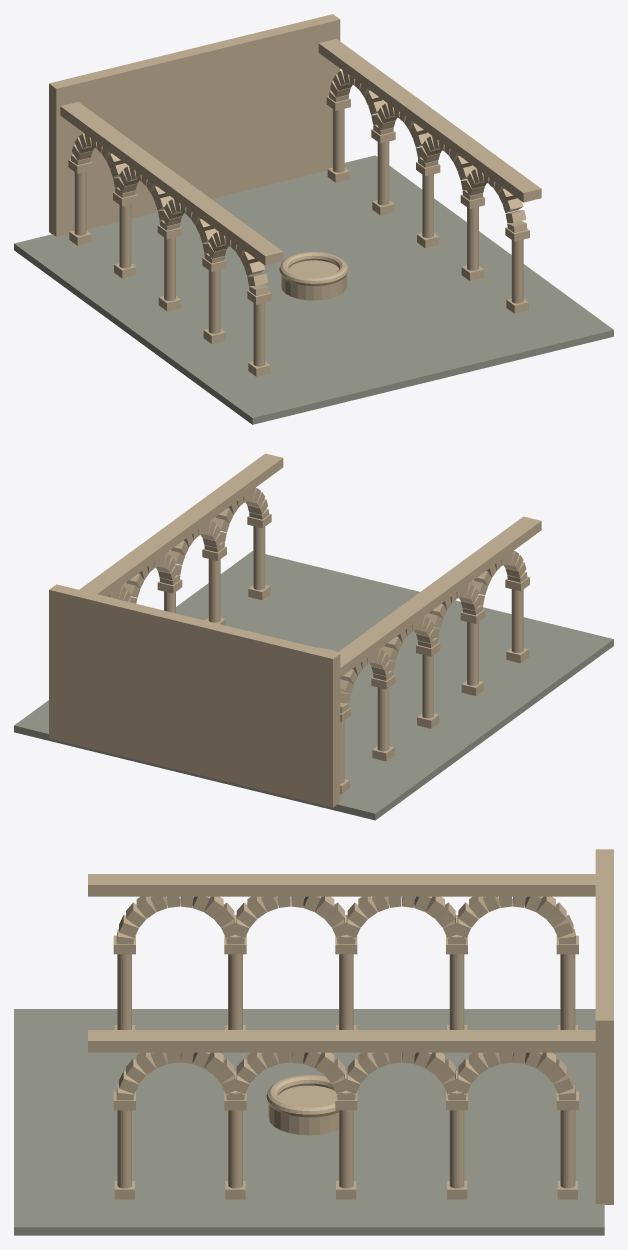
The picture shows the model from 3 angles, top to bottom: view 1: azimuth 30°, elevation 25°; view 2: azimuth 150°, elevation 25°; view 3: azimuth 270°, elevation 25°; orthographic projection. The views are drawn at different scales.
Parts seen in each view (by area): view 1: Courtyard floor, Rear wall, Arcade cornice.001, Arcade cornice, Wellhead base, Wellhead rim, Arcade column, Arcade column.003, Arcade column.004, Arcade column.005, Arcade column.009, Arcade column.001 (+4 smaller); view 2: Rear wall, Courtyard floor, Arcade cornice, Arcade cornice.001, Arcade column.006, Arcade column.003, Arcade column, Arcade column.005, Arcade column.002, Arcade column.001; view 3: Courtyard floor, Arcade cornice, Arcade cornice.001, Rear wall, Wellhead base, Wellhead rim, Arcade column.008, Arcade column.009, Arcade column.003, Arcade column.004, Arcade column.006, Arcade column.005 (+4 smaller).
Boxes of the visible parts, x1,y1,x2,y2 form: Courtyard floor: (14,155,613,424); Rear wall: (49,14,340,236); Arcade cornice.001: (318,39,541,202); Arcade cornice: (60,101,283,265); Wellhead base: (281,260,346,300); Wellhead rim: (279,252,348,286); Arcade column: (253,302,265,366); Arcade column.003: (119,204,131,268); Arcade column.004: (74,171,86,235); Arcade column.005: (511,239,523,303); Arcade column.009: (332,108,344,172); Arcade column.001: (208,270,220,333); Rear wall: (49,584,340,807); Courtyard floor: (14,551,613,820); Arcade cornice: (337,516,541,677); Arcade cornice.001: (79,453,283,596); Arcade column.006: (208,559,220,622); Arcade column.003: (377,687,389,751); Arcade column: (511,589,523,652); Arcade column.005: (253,526,265,589); Arcade column.002: (422,654,433,718); Arcade column.001: (467,622,478,685); Courtyard floor: (14,1009,604,1235); Arcade cornice: (88,874,595,896); Arcade cornice.001: (88,1030,595,1052); Rear wall: (595,849,613,1204); Wellhead base: (268,1085,338,1135); Wellhead rim: (266,1075,338,1117); Arcade column.008: (449,1110,464,1188); Arcade column.009: (560,1110,575,1188); Arcade column.003: (449,954,464,1029); Arcade column.004: (560,954,575,1029); Arcade column.006: (228,1110,242,1188); Arcade column.005: (117,1110,131,1188).
Bounding box in the file's own units: 14 × 5.73 × 16.25.
